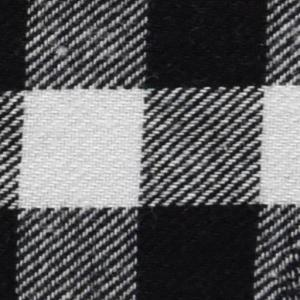Damage: (275, 220, 300, 300)
